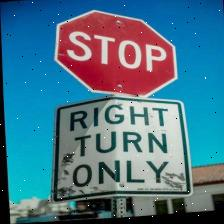Stop: (50, 6, 178, 106)
